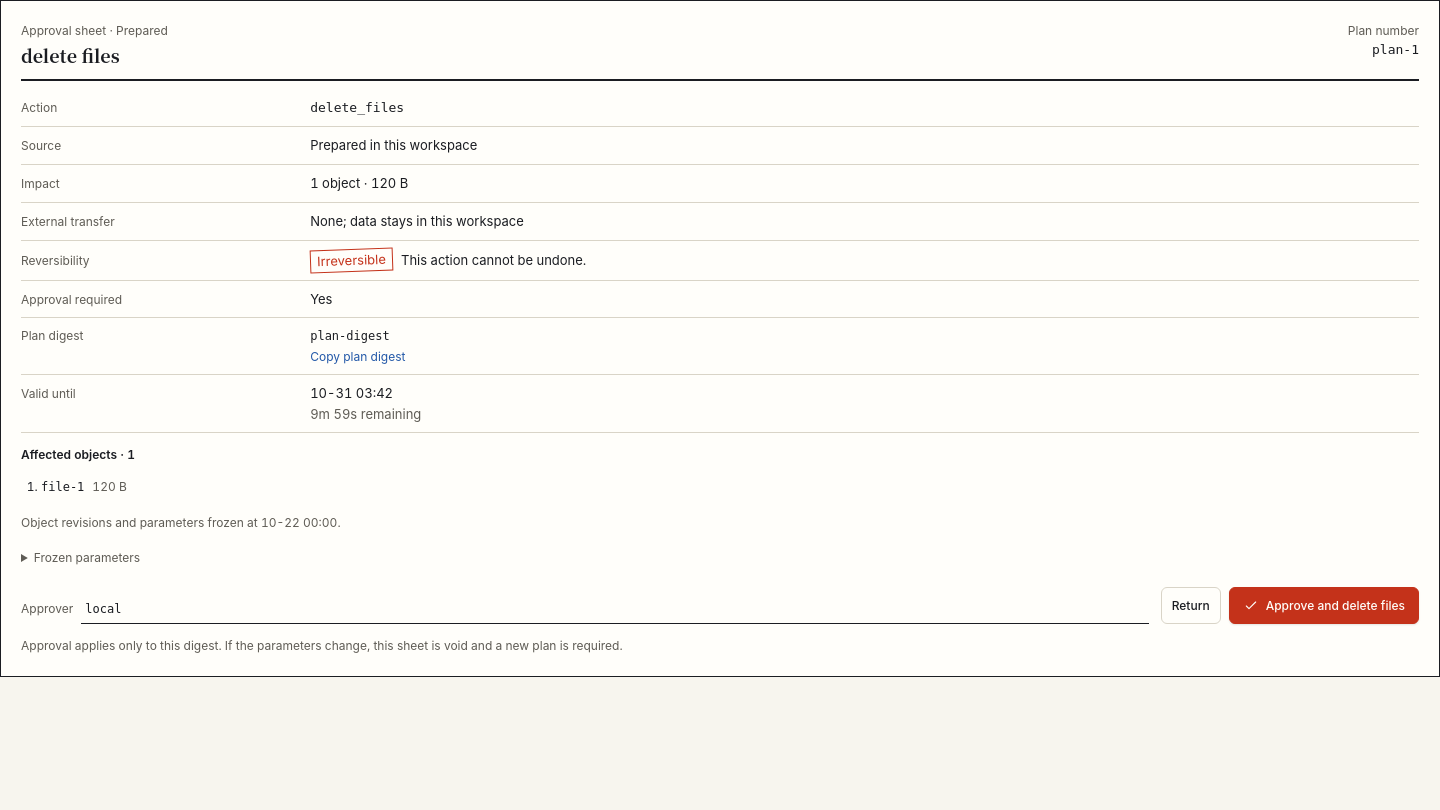
Test: shows a server rejection and does not invent a receipt
The width and height of the screenshot is (1440, 810).
Click the button "Approve and delete files". click: (1324, 606)
box: [1229,587,1419,624]
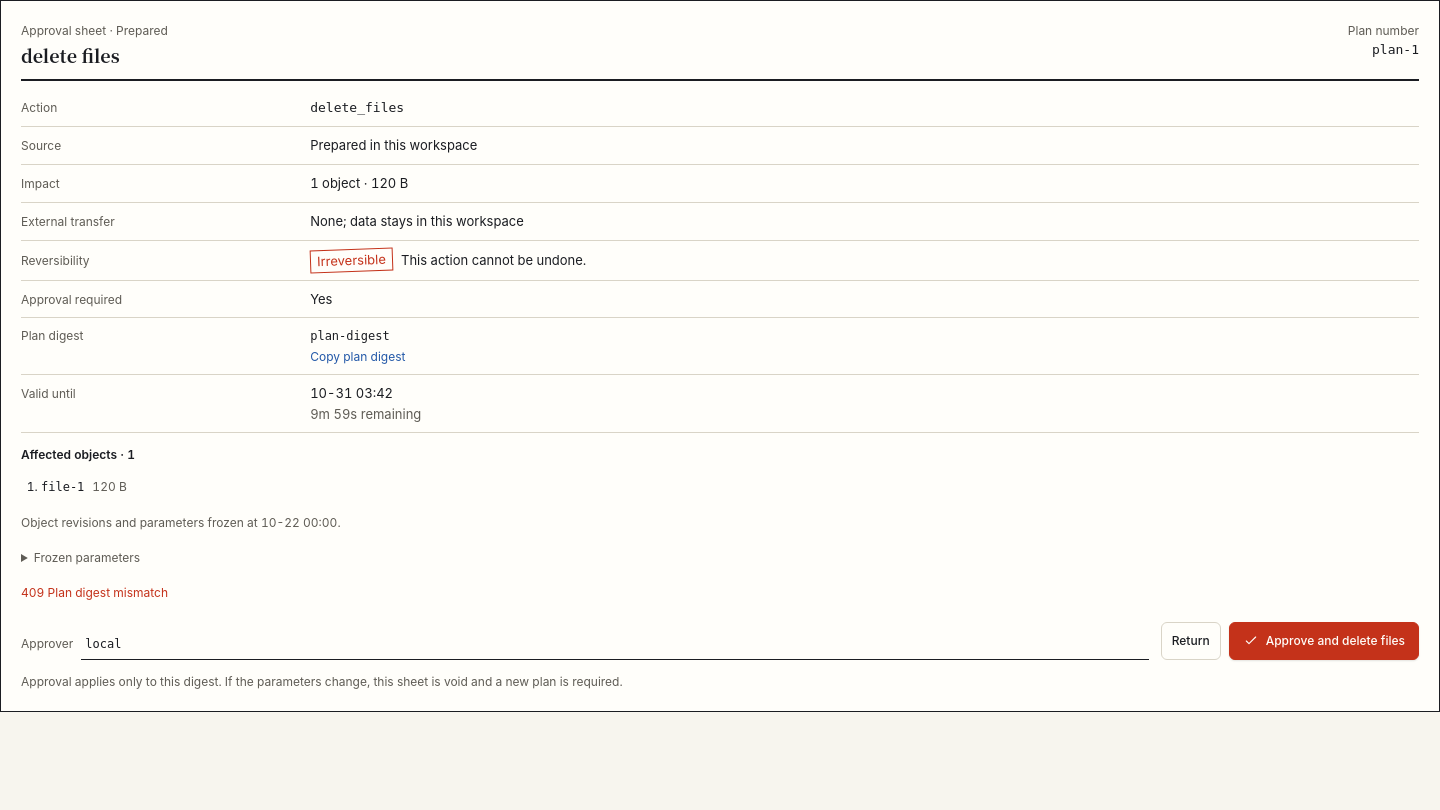
Now the message shows "Plan digest mismatch", box [21,585,168,600]
